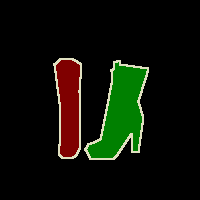shoe: (85, 60, 148, 159), (54, 59, 81, 158)
